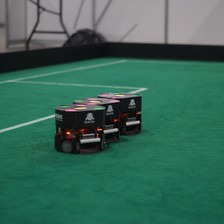robot: (52, 102, 107, 155), (119, 92, 143, 136), (102, 97, 122, 144)
